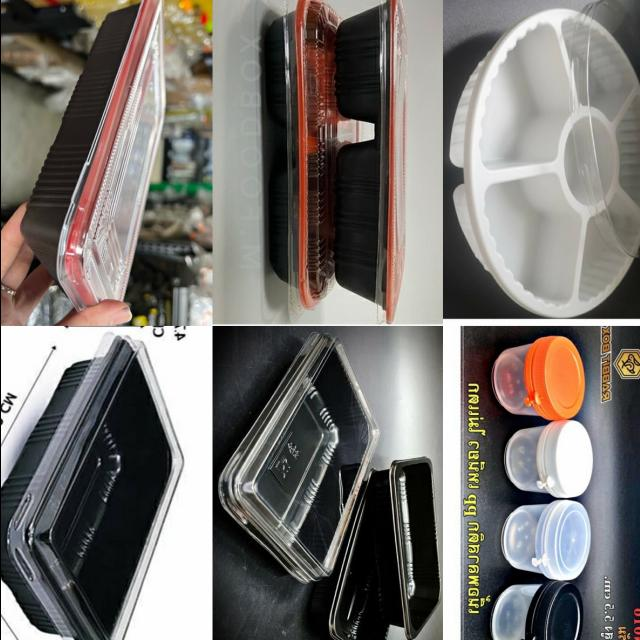plastik: (448, 8, 640, 318), (0, 335, 182, 640), (20, 0, 165, 309), (217, 334, 378, 582), (264, 0, 348, 309), (333, 0, 405, 323), (365, 457, 440, 640), (309, 480, 388, 640), (491, 336, 583, 420), (502, 500, 590, 581), (504, 420, 591, 498), (490, 581, 582, 640)
